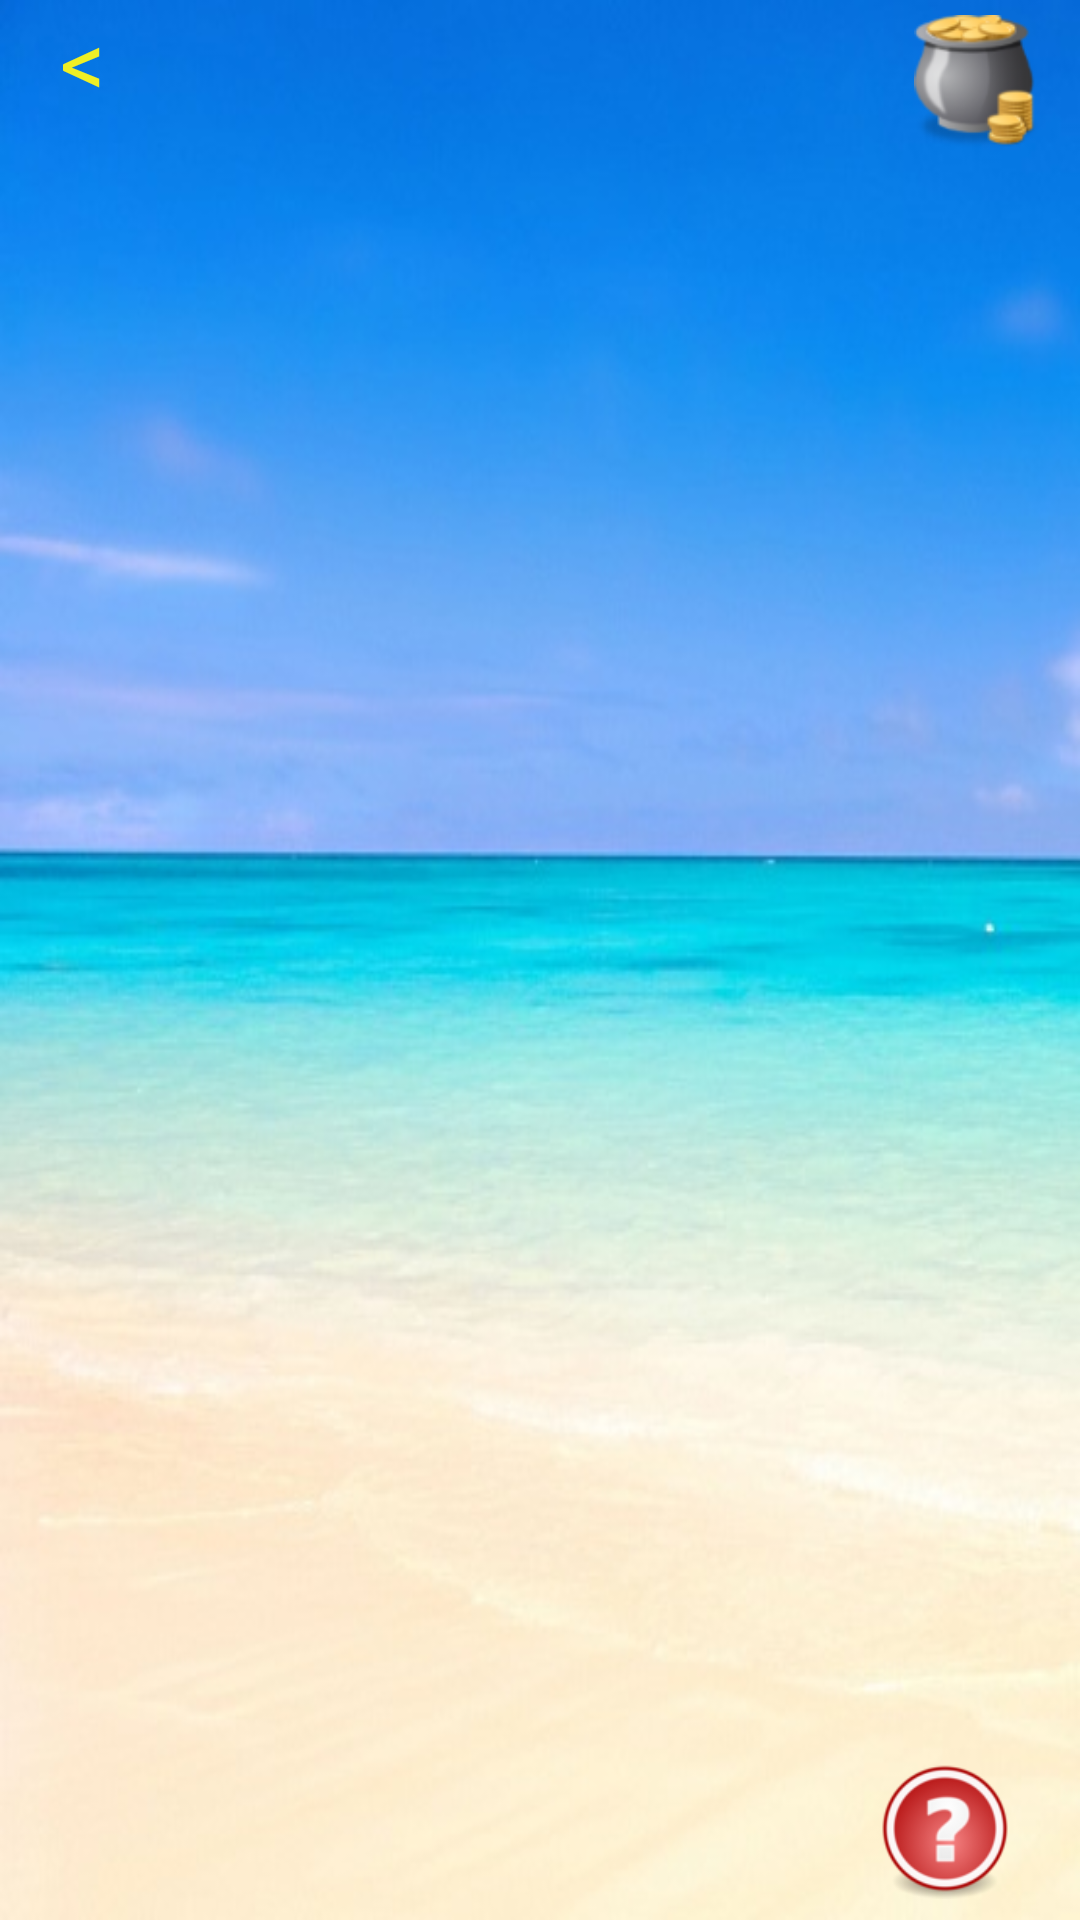

Where to tap for icons on this 1080px x 1920px app screen, as (x,y):
coin box: (974,80)
help: (945,1830)
